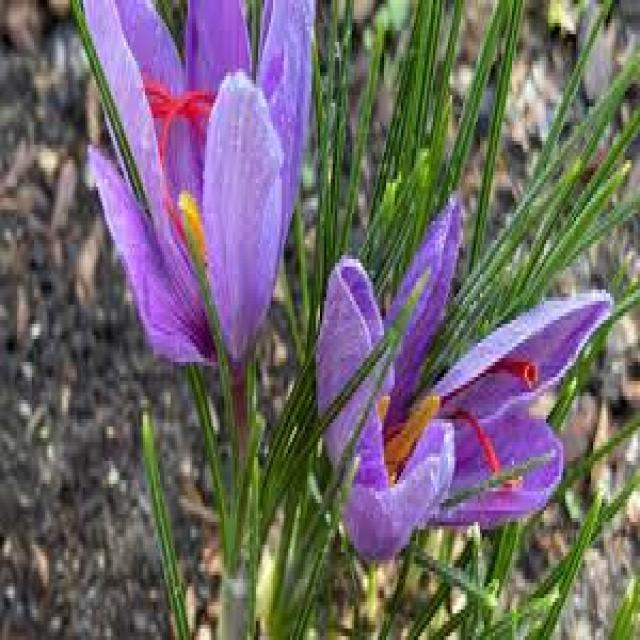Flower: (334, 214, 618, 549), (72, 0, 319, 360)
stigma: (134, 62, 228, 291), (375, 375, 438, 484), (449, 402, 501, 486), (482, 340, 545, 392)
